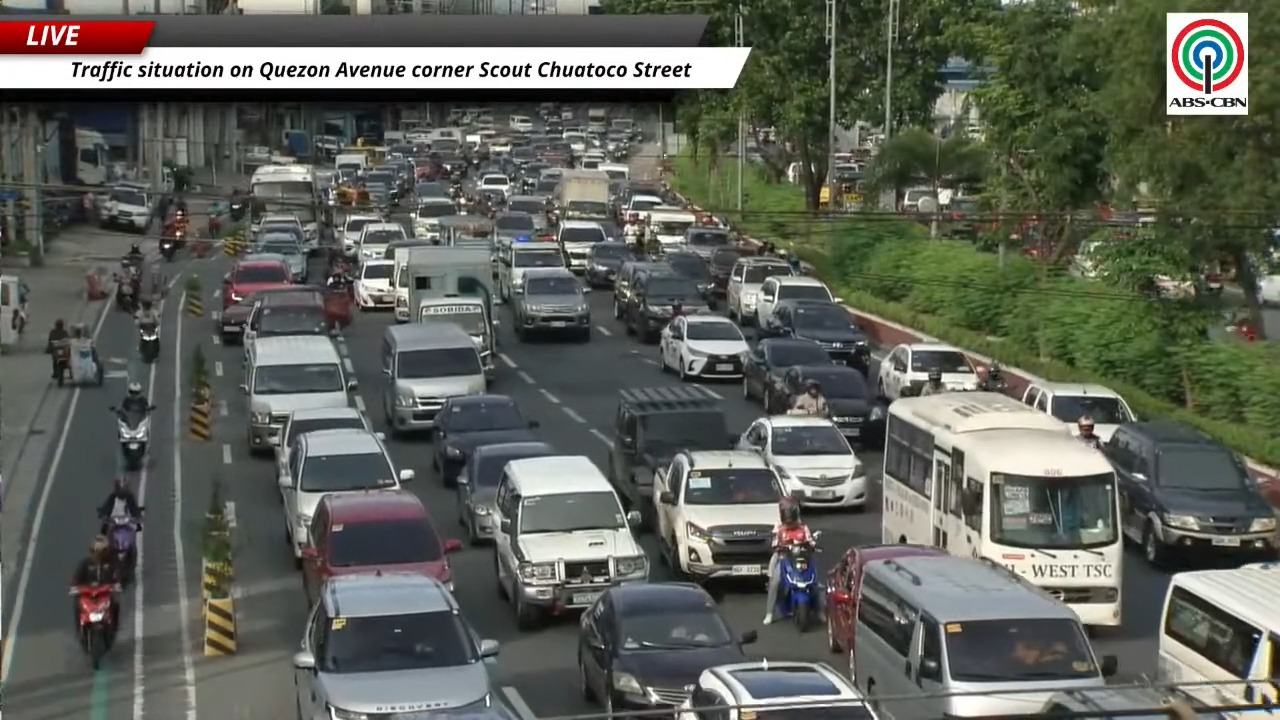bus: (882, 392, 1122, 626), (1157, 562, 1279, 707), (250, 164, 318, 249)
car: (292, 573, 499, 717), (494, 456, 647, 629), (1103, 421, 1276, 566), (577, 582, 757, 713), (278, 429, 414, 565), (606, 385, 736, 527), (302, 490, 461, 602), (654, 450, 783, 581), (824, 545, 945, 669), (674, 660, 876, 719), (739, 415, 866, 507), (456, 441, 555, 544), (764, 364, 886, 446), (433, 394, 538, 486), (274, 406, 372, 477), (240, 286, 330, 361), (760, 300, 867, 363), (622, 264, 708, 342), (1023, 381, 1135, 440), (1038, 687, 1235, 719), (877, 342, 978, 400), (511, 268, 591, 341), (659, 314, 748, 379), (743, 339, 831, 401), (217, 283, 298, 344), (726, 256, 792, 324), (756, 275, 839, 319), (220, 259, 291, 308), (613, 257, 665, 319), (252, 231, 307, 283), (99, 183, 154, 233), (557, 219, 606, 273), (663, 250, 711, 303), (585, 241, 635, 287), (355, 258, 395, 309), (357, 222, 409, 261), (708, 246, 745, 300), (412, 195, 457, 239), (340, 213, 383, 256), (682, 225, 732, 259), (492, 208, 538, 243), (382, 238, 436, 260), (476, 172, 509, 197), (414, 181, 448, 200)
motorcycle: (775, 533, 820, 632), (69, 584, 118, 670), (110, 406, 155, 471), (108, 515, 138, 587), (116, 262, 140, 313), (138, 323, 160, 364), (51, 340, 70, 386), (847, 342, 871, 378), (159, 235, 176, 261), (229, 200, 247, 222)
truck: (395, 246, 497, 377), (554, 170, 610, 220)
